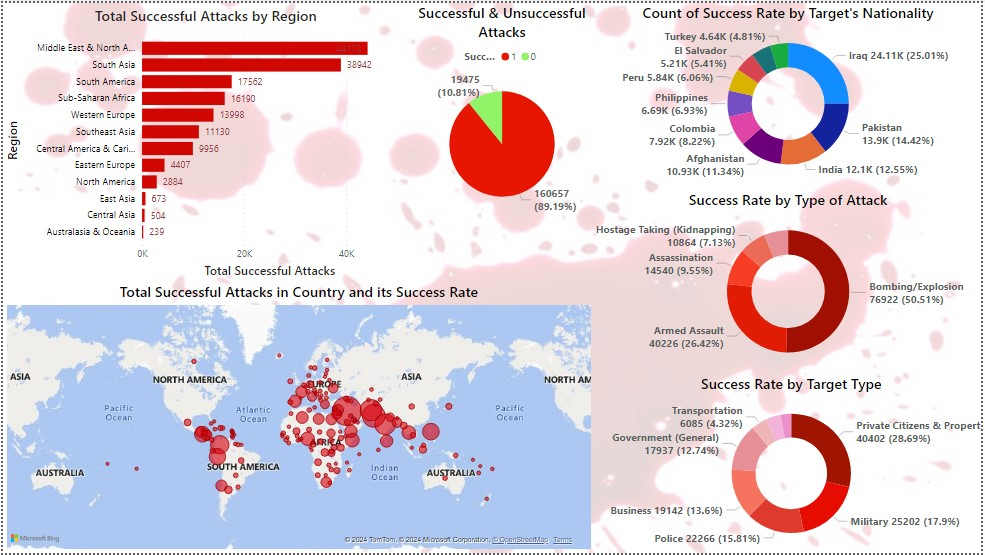

What the dashboard file says about the page in this screenshot:
{"tool":"powerbi","page":{"name":"Dashboard1","canvas":[1280,720],"ordinal":0},"visuals":[{"type":"pieChart","title":"Successful & Unsuccessful Attacks","fields":{"Category":["Sheet1.Success Rate"],"Y":["CountNonNull(Sheet1.Name of Group)"]},"box":[531.3,0,243.6,290.4],"z":0},{"type":"donutChart","fields":{"Category":["Sheet1.Type of Attack"],"Y":["Sum(Sheet1.Success Rate)"]},"box":[774.4,245.2,505.6,240.2],"z":1000},{"type":"donutChart","title":"Success Rate by Target Type","fields":{"Category":["Sheet1.Target Type"],"Y":["Sum(Sheet1.Success Rate)"]},"box":[784.5,485.5,495.5,235.2],"z":2000},{"type":"donutChart","fields":{"Y":["CountNonNull(Sheet1.Success Rate)"],"Category":["Sheet1.Target's Nationality"]},"box":[774.4,0,505.6,238.5],"z":3000},{"type":"map","title":"Total Successful Attacks in Country and its Success Rate","fields":{"Category":["Sheet1.Country"],"Series":["Sheet1.Success Rate"],"Size":["Sum(Sheet1.Success Rate)"]},"box":[0,364.7,774.9,355.1],"z":4000},{"type":"barChart","fields":{"Category":["Sheet1.Region"],"Y":["Sum(Sheet1.Success Rate)"]},"box":[0,4.1,531.3,360.6],"z":5000}]}

Visuals, with their boxes in screenshot pixels (x1, y1, x2, y2), scaled from the page's 1280x720 canvas onto the 985x555 screenshot:
"Successful & Unsuccessful Attacks" pieChart: crop(409, 0, 596, 224)
donutChart - Sheet1.Type of Attack x Sum(Sheet1.Success Rate): crop(596, 189, 984, 374)
"Success Rate by Target Type" donutChart: crop(604, 374, 984, 554)
donutChart - CountNonNull(Sheet1.Success Rate) x Sheet1.Target's Nationality: crop(596, 0, 984, 184)
"Total Successful Attacks in Country and its Success Rate" map: crop(0, 281, 596, 554)
barChart - Sheet1.Region x Sum(Sheet1.Success Rate): crop(0, 3, 409, 281)
